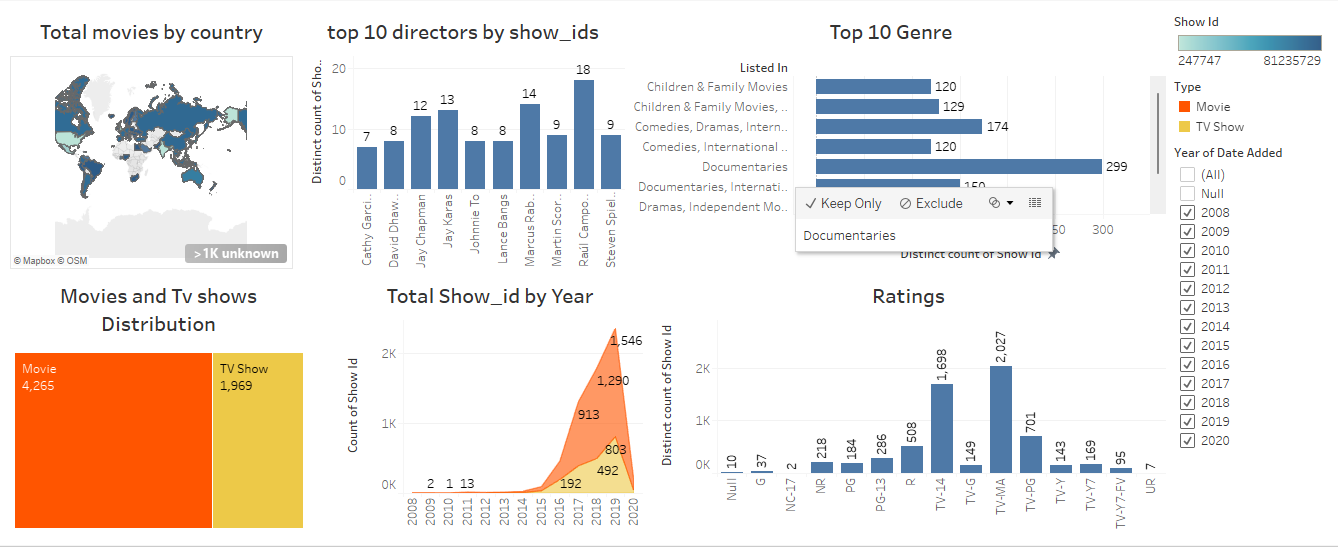

What the dashboard file says about the page in this screenshot:
{"tool":"tableau","page":{"name":"Dashboard 1","canvas":[1000,1000],"units":"permille","ordinal":0},"visuals":[{"type":"worksheet","title":"total movies by country","mark":"Multipolygon","box":[6.2,15.2,216.1,484.9]},{"type":"worksheet","title":"top 10 directors by show_ids","mark":"Automatic","rows":["show_id"],"cols":["director"],"box":[222.3,15.2,246.5,484.9]},{"type":"worksheet","title":"top 10 genre","mark":"Automatic","rows":["listed_in"],"cols":["show_id"],"box":[468.8,15.2,402,484.9]},{"type":"legend","title":"total movies by country","param":"[federated.04e8usu1elbaz11giitzu0d7znk3].[none:show_id:qk]","box":[870.8,15.2,123.1,123.1]},{"type":"legend","title":"movies and tv shows distribution","param":"[federated.04e8usu1elbaz11giitzu0d7znk3].[none:type:nk]","box":[870.8,138.2,123.1,125]},{"type":"filter","title":"total show_id by year","param":"[federated.04e8usu1elbaz11giitzu0d7znk3].[yr:date_added:ok]","box":[870.8,263.2,123.1,98.5]},{"type":"worksheet","title":"movies and tv shows distribution","mark":"Square","box":[6.2,500,238.1,484.9]},{"type":"worksheet","title":"total show_id by year","mark":"Area","rows":["show_id"],"cols":["date_added"],"box":[244.2,500,238.1,484.9]},{"type":"worksheet","title":"ratings","mark":"Automatic","rows":["show_id"],"cols":["rating"],"box":[482.3,500,388.5,484.9]}]}

Visuals, with their boxes on the dashboard's canvas, which has no fixed pixel size, in thousandths of its width and height (x1, y1, x2, y2). These are canvas units, not pixel positions in the 1338x547 screenshot, which may show the page scaled, cropped or inside an application window:
"total movies by country" worksheet (Multipolygon marks): crop(6, 15, 222, 500)
"top 10 directors by show_ids" worksheet: crop(222, 15, 469, 500)
"top 10 genre" worksheet: crop(469, 15, 871, 500)
"total movies by country" legend: crop(871, 15, 994, 138)
"movies and tv shows distribution" legend: crop(871, 138, 994, 263)
"total show_id by year" filter: crop(871, 263, 994, 362)
"movies and tv shows distribution" worksheet (Square marks): crop(6, 500, 244, 985)
"total show_id by year" worksheet (Area marks): crop(244, 500, 482, 985)
"ratings" worksheet: crop(482, 500, 871, 985)
